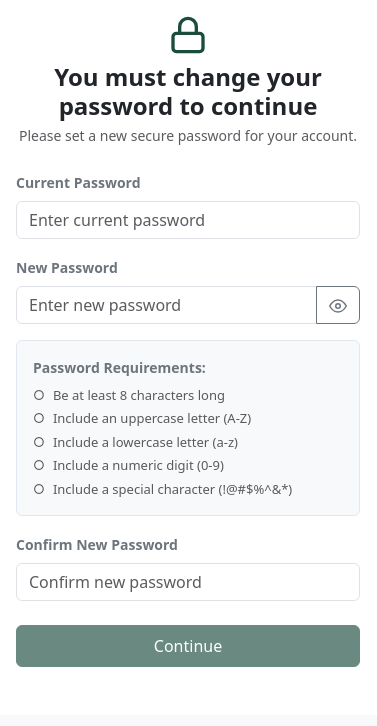
it: ChangePassword Component Tests (UI-03, UI-03b) › UI-03b: Displays error alert when current password is entered incorrectly
Type "WrongCurrentPassword!" into the password field labelled "Current Password". click: point(188, 220)
box: [16,201,360,239]
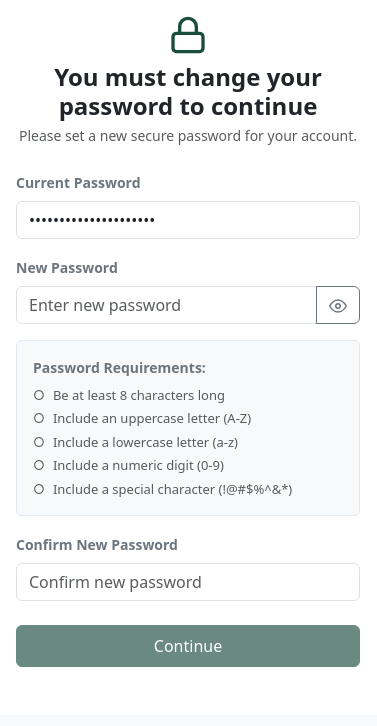
Type "NewPassword123!" into the password field labelled "New Password". click: point(166, 305)
box: [16,286,317,324]
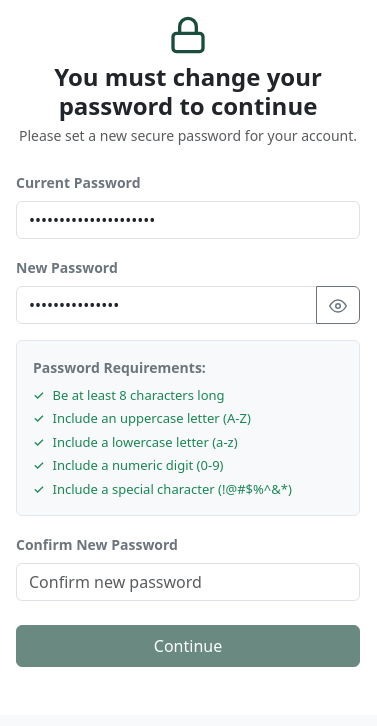
Type "NewPassword123!" into the password field labelled "Confirm New Password". click: point(188, 582)
box: [16,563,360,601]
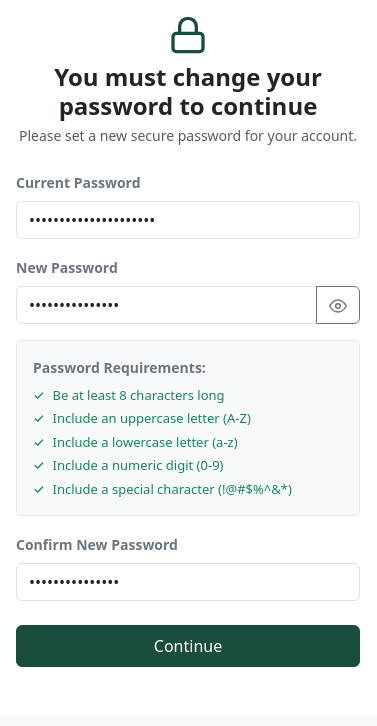
Click the button with test id "change-password-submit-button". click: point(188, 646)
box: [16,625,360,667]
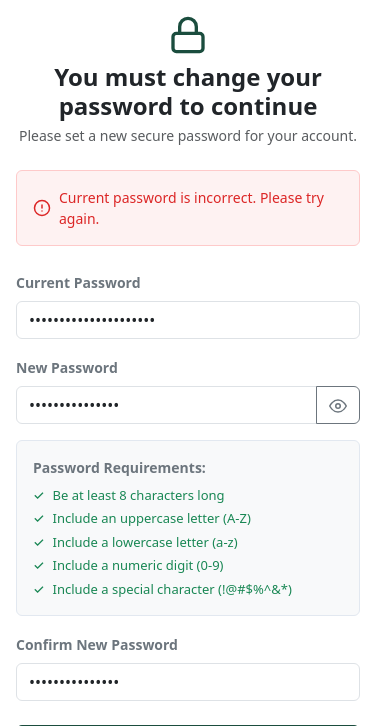
expect the message "Current password is incorrect. Please try again." is shown: met, box [16,170,360,246]
expect the message with test id "change-password-error-alert" reads "Current password is incorrect. Please try again.": met, box [59,188,324,228]
